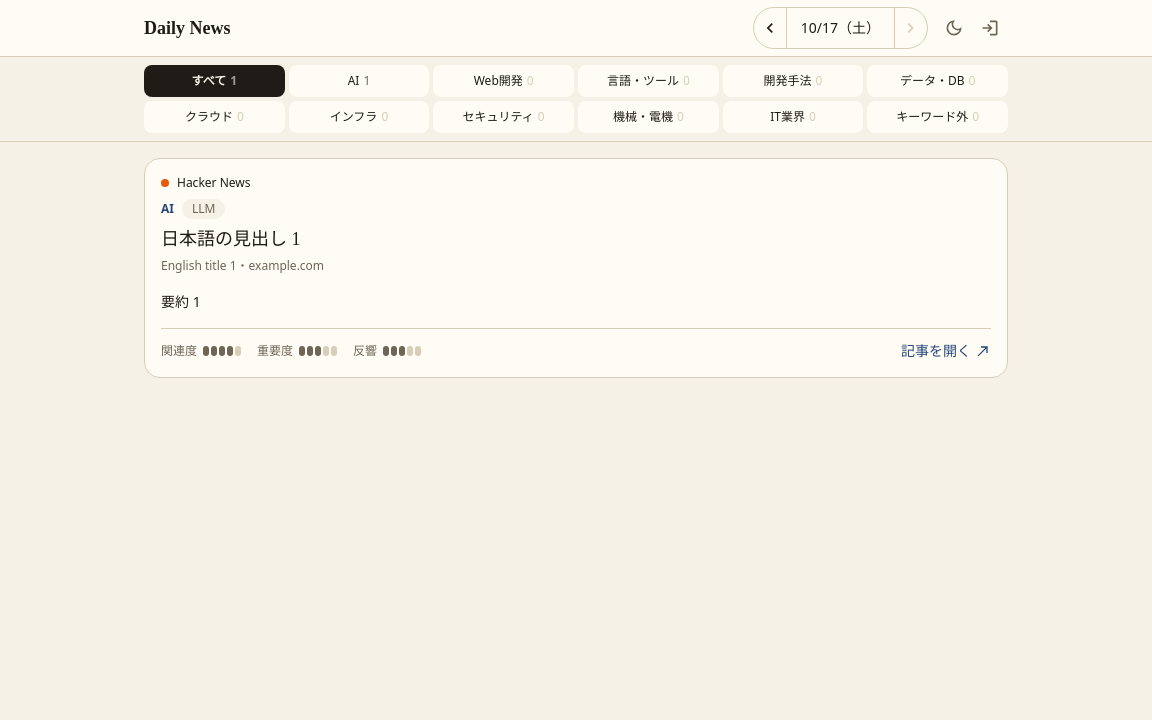
Test: カレンダー › 外を押すと閉じる
This screenshot has width=1152, height=720.
Expected: the link "日本語の見出し 1" is shown, [161,229,300,249]
Click the button "10/17（土）" at (840, 28), box [786,8,895,48]
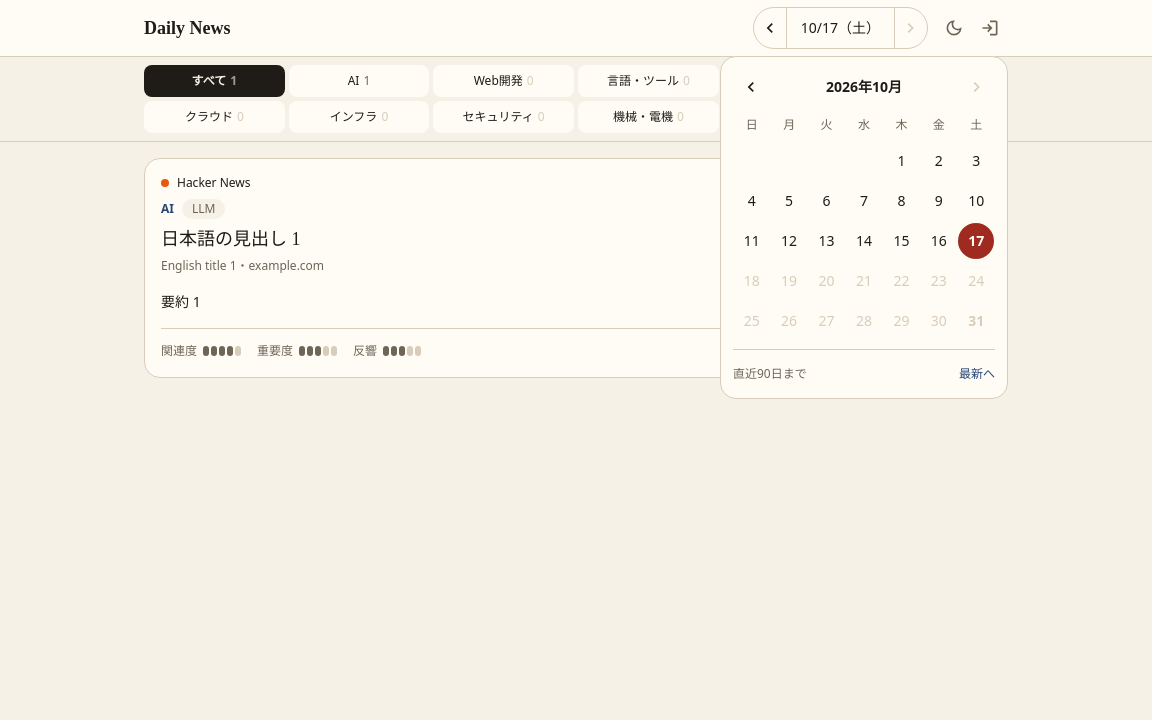
Click the button named "カレンダーを閉じる" at (576, 360), box [0,0,1151,719]
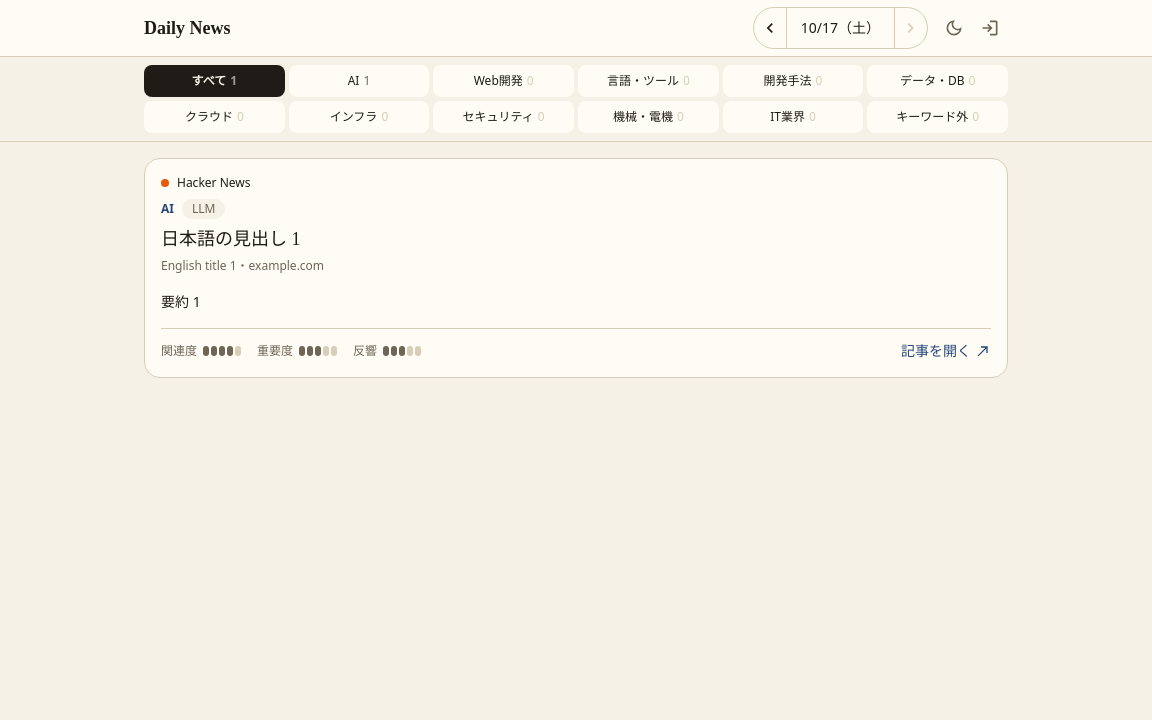
Now the dialog "カレンダー" is gone
